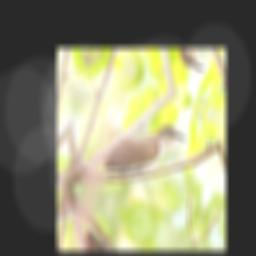Cuckoo: (101, 98, 189, 208)
